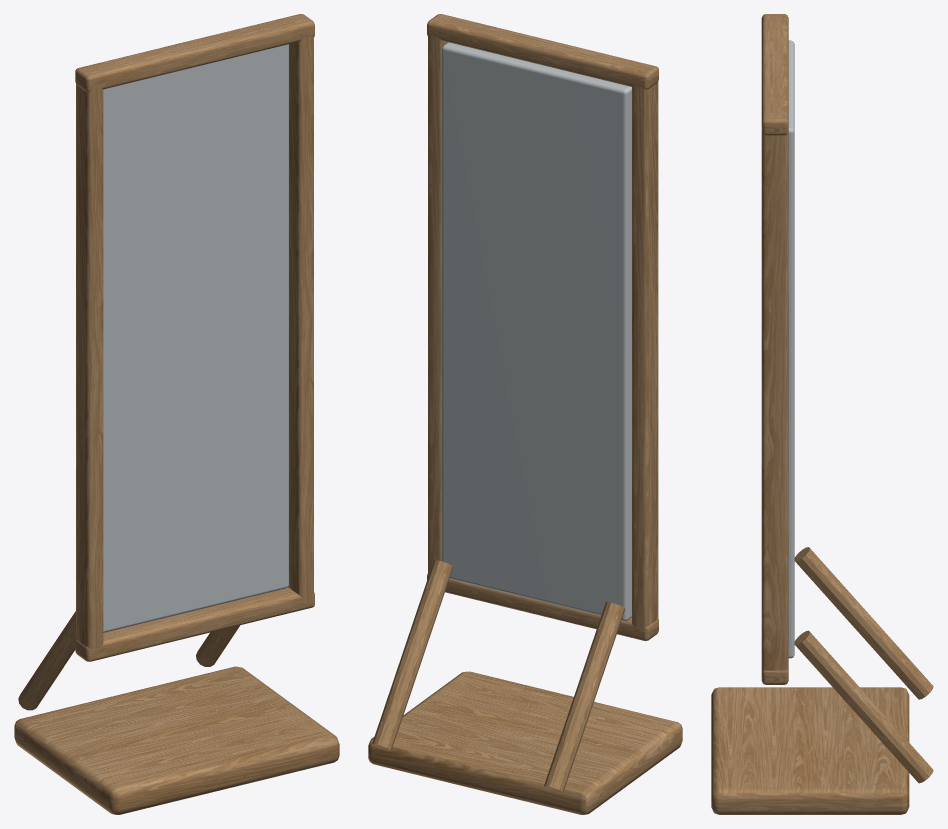
File: standing_mirror_black.glb
3 views of the same model, side by side, from view 1: azimuth 30°, elevation 25°; view 2: azimuth 150°, elevation 25°; view 3: azimuth 270°, elevation 25° (orthographic). The views are drawn at different scales.
Parts seen in each view (by area): view 1: mirror plate, stabilizing foot, frame upright, frame upright.001, frame rail.001, frame rail, rear support, rear support.001; view 2: mirror plate, stabilizing foot, frame upright, frame upright.001, frame rail.001, rear support.001, rear support, frame rail; view 3: stabilizing foot, frame upright.001, mirror plate, rear support, rear support.001, frame rail.001.
Part boxes in pixels (x1,y1,x2,y2): mirror plate: (103,44,288,632); stabilizing foot: (14,666,339,814); frame upright: (76,83,103,649); frame upright.001: (288,32,313,602); frame rail.001: (75,14,314,92); frame rail: (75,587,314,661); rear support: (18,611,75,710); rear support.001: (196,625,239,666); mirror plate: (441,42,631,620); stabilizing foot: (368,671,682,814); frame upright: (632,82,658,628); frame upright.001: (428,32,447,575); frame rail.001: (427,14,658,89); rear support.001: (372,560,453,751); rear support: (544,602,625,793); frame rail: (427,573,658,640); stabilizing foot: (711,687,909,814); frame upright.001: (761,132,788,670); mirror plate: (788,40,794,658); rear support: (794,547,933,699); rear support.001: (794,630,933,783); frame rail.001: (761,14,788,135).
Size of the model in its own units: 0.62 by 1.87 by 0.5394.
Materials: 2 (1 with a texture image).
